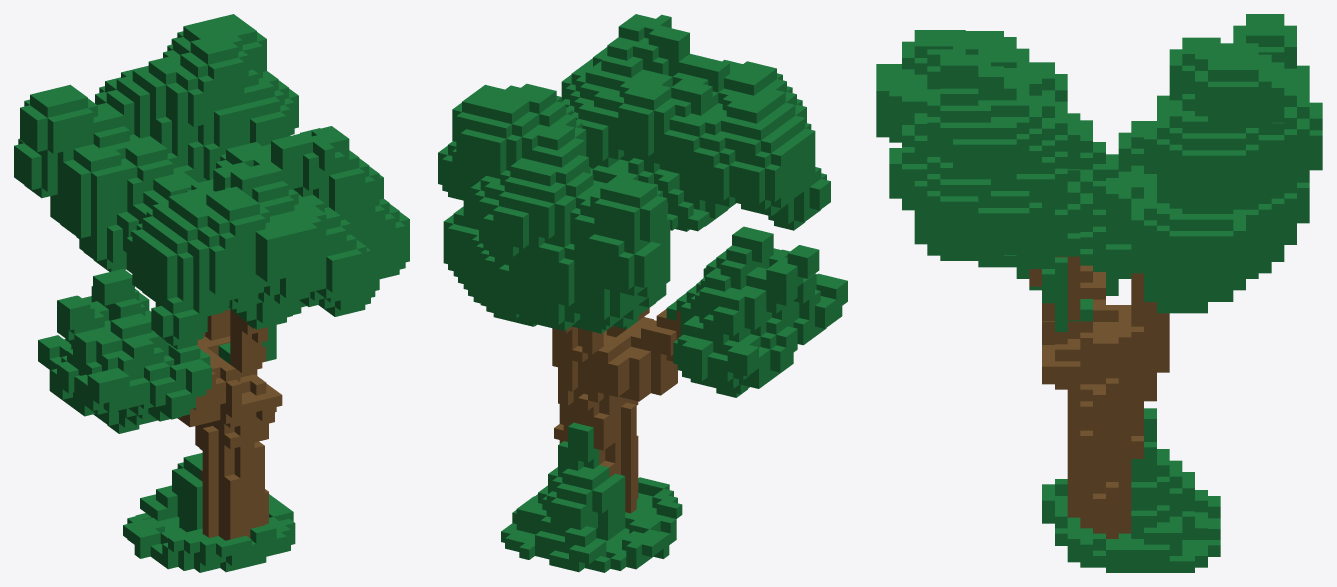
The model's file is Arbol_03.fbx.
3 views of the same model, side by side, from view 1: azimuth 30°, elevation 25°; view 2: azimuth 150°, elevation 25°; view 3: azimuth 270°, elevation 25° (orthographic). The views are drawn at different scales.
Parts seen in each view (by area): view 1: _arbol03; view 2: _arbol03; view 3: _arbol03.
Part boxes in pixels (x1,y1,x2,y2): _arbol03: (14,14,409,572); _arbol03: (438,14,847,572); _arbol03: (876,14,1322,572).
Size of the model in its own units: 290 by 440 by 350.
Materials: 1 (1 with a texture image).
